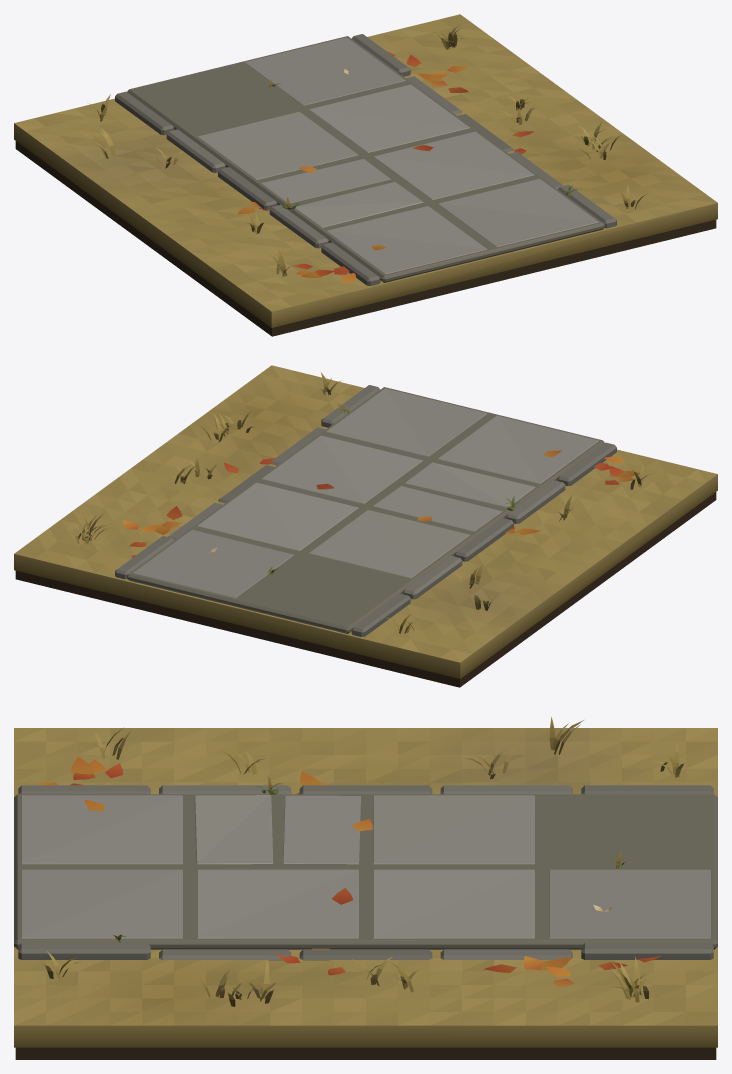
File: road-sidewalk-straight-01.glb
The picture shows the model from 3 angles, top to bottom: view 1: azimuth 30°, elevation 25°; view 2: azimuth 150°, elevation 25°; view 3: azimuth 270°, elevation 25°; orthographic projection. The views are drawn at different scales.
Parts seen in each view (by area): view 1: road_sidewalk_straight_01; view 2: road_sidewalk_straight_01; view 3: road_sidewalk_straight_01.
Part boxes in pixels (left/top/right/bottom): road_sidewalk_straight_01: left=14, top=14, right=717, bottom=336; road_sidewalk_straight_01: left=14, top=365, right=717, bottom=687; road_sidewalk_straight_01: left=14, top=717, right=717, bottom=1059.
Size of the model in its own units: 4 by 0.4265 by 4.
